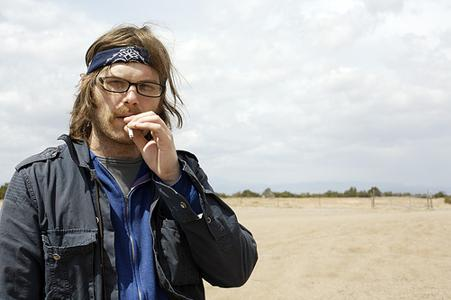person: (3, 24, 259, 300)
